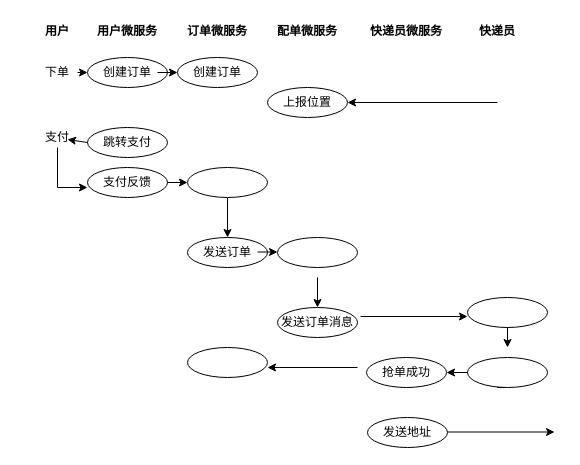
This 580x465 diagram has some shape labels left out. Here are the shapes that lost their labels. From the top down, the centre of each, then its label:
point 227,182: 更新订单
point 317,252: 匹配订单
point 507,312: 收到
point 227,362: 更新订单消息
point 507,372: 抢单
